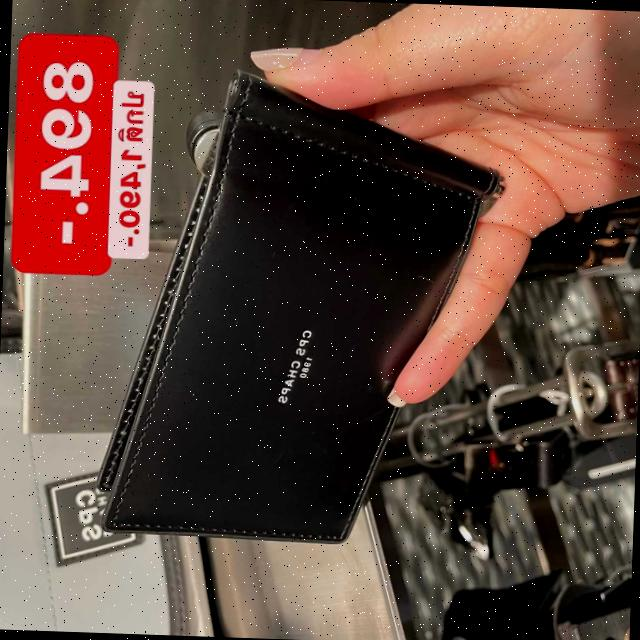Handbag: (73, 58, 520, 566)
